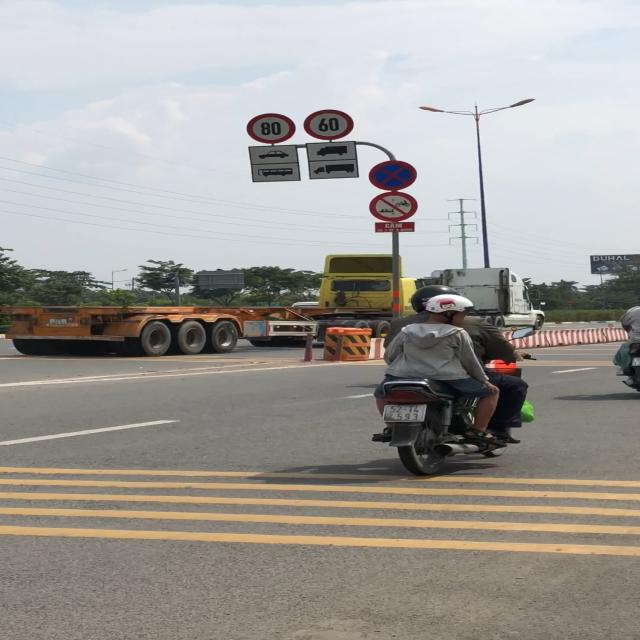Bien bao cam dung xe va do xe: (368, 159, 420, 191)
Bien bao toc do toi da cho phep: (243, 113, 299, 145), (303, 109, 357, 142)
